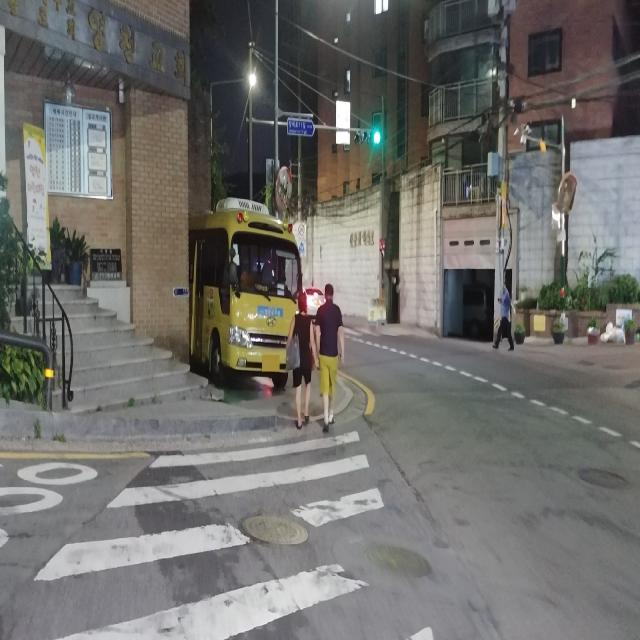빨간불: (380, 239, 386, 256)
횡단보도: (33, 430, 435, 640)
